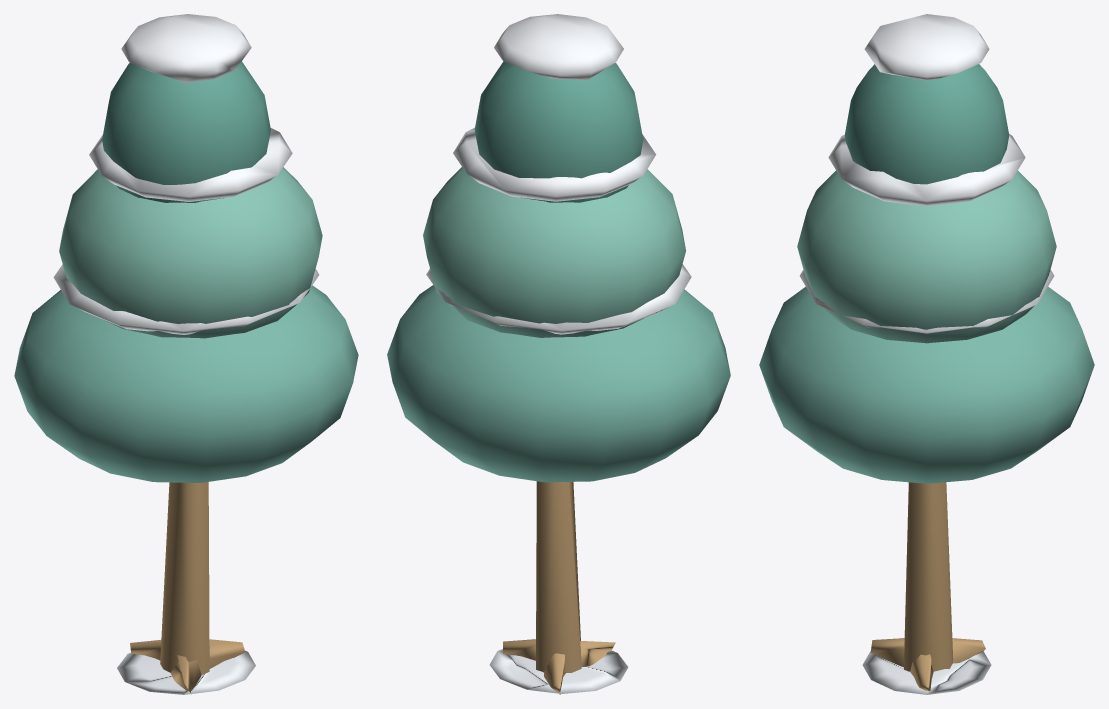
The model's file is tree_v3_winter_low.glb.
The picture shows the model from 3 angles, left to right: view 1: azimuth 30°, elevation 25°; view 2: azimuth 150°, elevation 25°; view 3: azimuth 270°, elevation 25°; orthographic projection.
Size of the model in its own units: 2.75 by 5.57 by 2.65.
